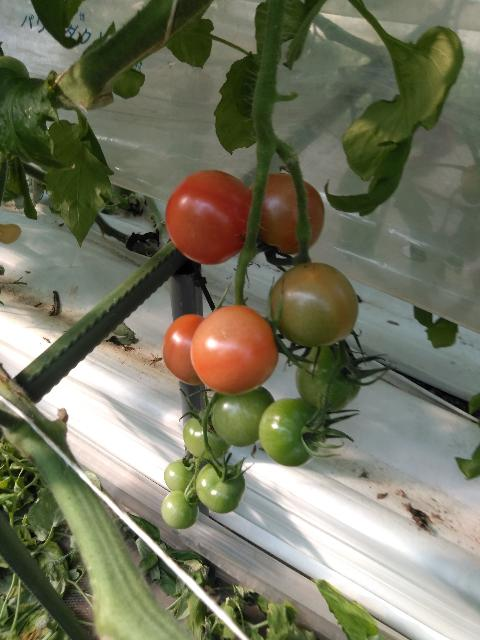l_fully_ripened: (165, 170, 258, 265), (190, 304, 279, 396), (162, 314, 205, 386)
l_green: (259, 398, 325, 466), (296, 344, 361, 410), (212, 385, 276, 447), (195, 462, 245, 514), (183, 413, 232, 460), (161, 490, 199, 529), (164, 459, 198, 494)
l_half_ripened: (269, 262, 358, 348), (248, 172, 325, 255)
